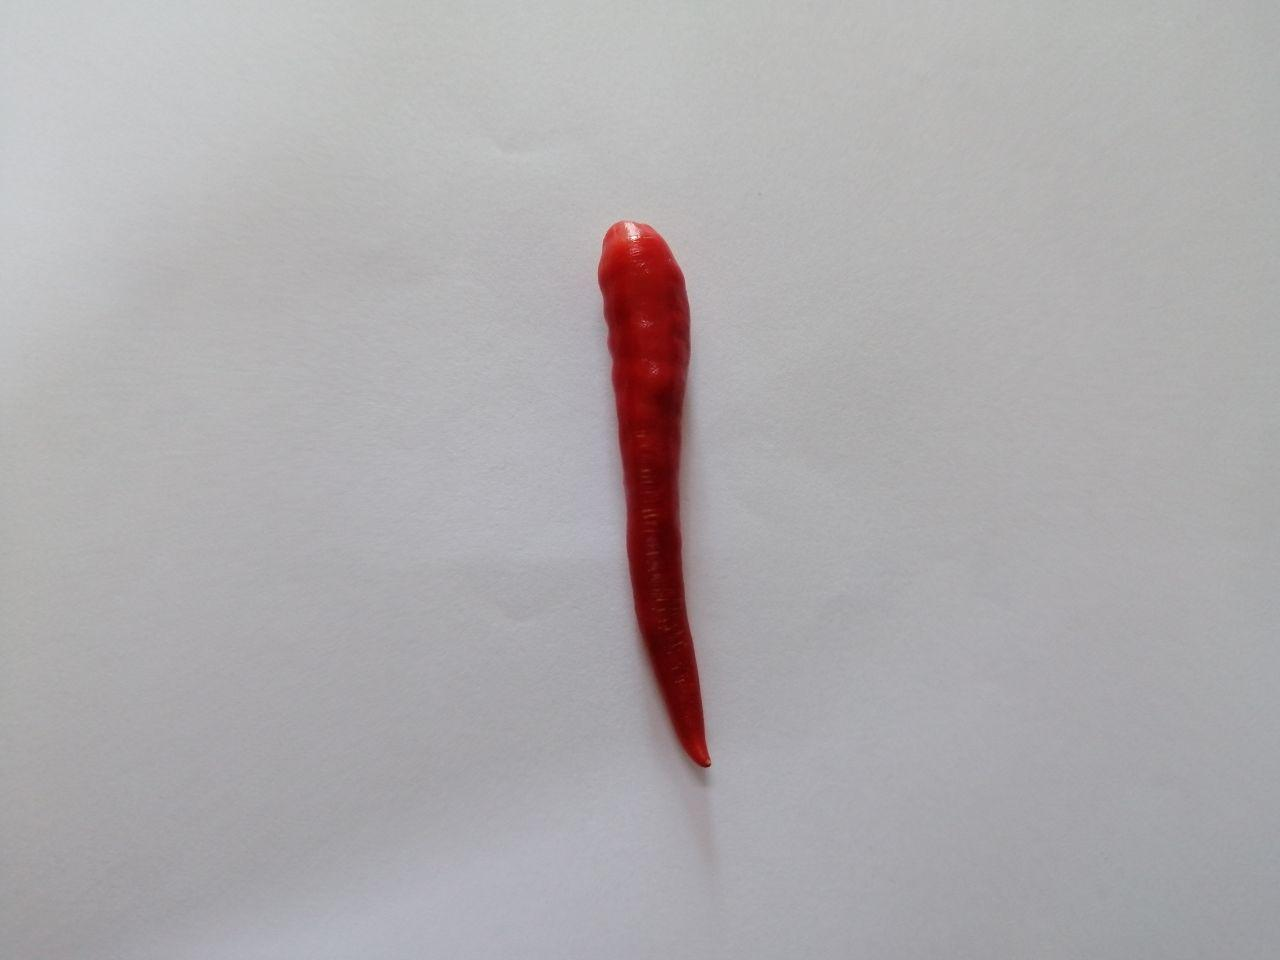lada merah: (569, 202, 763, 793)
